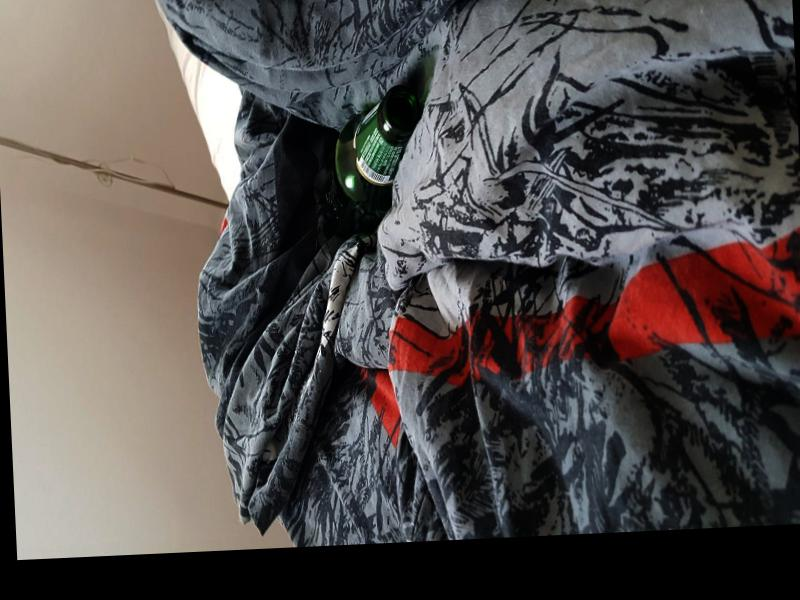Beer: (318, 83, 427, 242)
